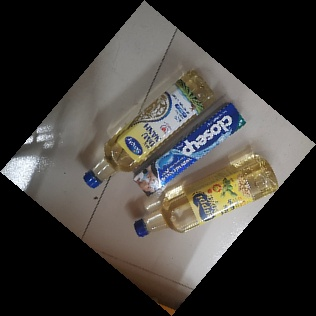CloseUp Tuyet: (132, 101, 248, 197)
Happy Soya: (131, 153, 281, 239)
Simply: (82, 69, 215, 189)
